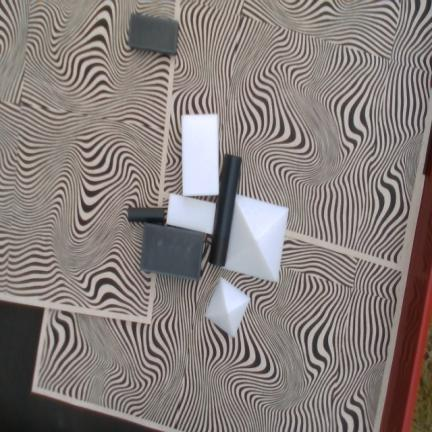Cilindro: (127, 207, 164, 224)
Paralelepipedo: (140, 223, 204, 281), (181, 113, 219, 197), (128, 13, 179, 55), (166, 194, 216, 235)
Piramide: (224, 194, 289, 283), (210, 154, 241, 266), (205, 277, 251, 339)
